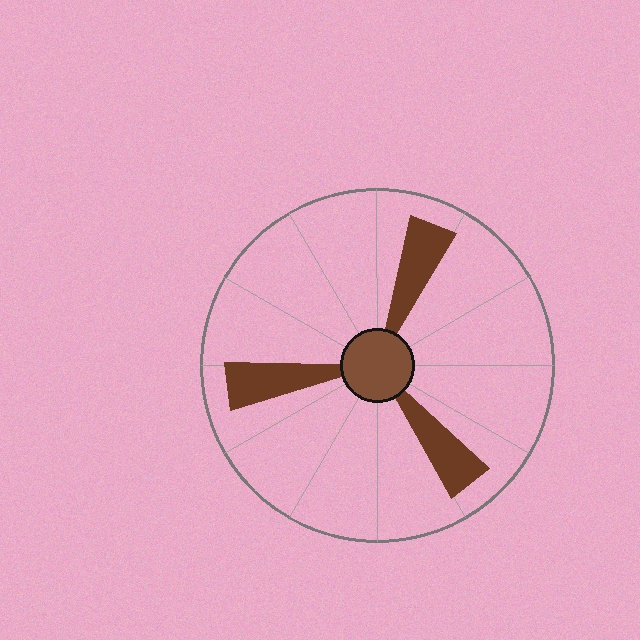fan: (196, 184, 558, 546)
